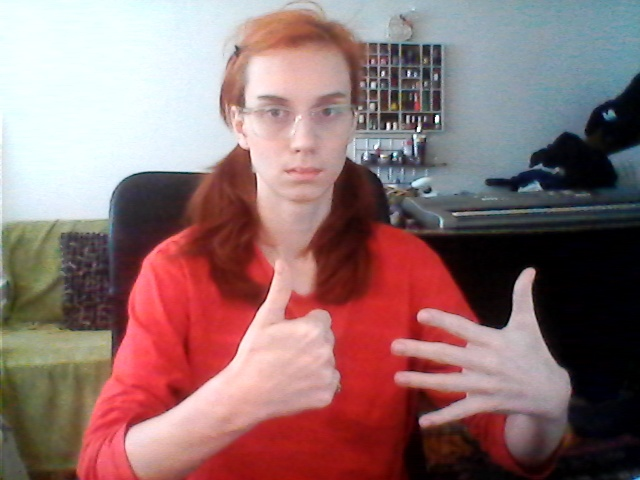sest: (241, 247, 565, 438)
